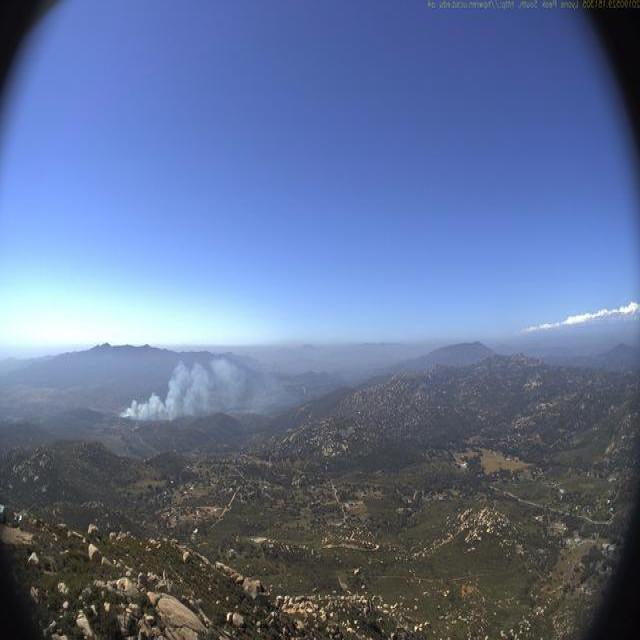Smoke: (118, 352, 298, 424)
